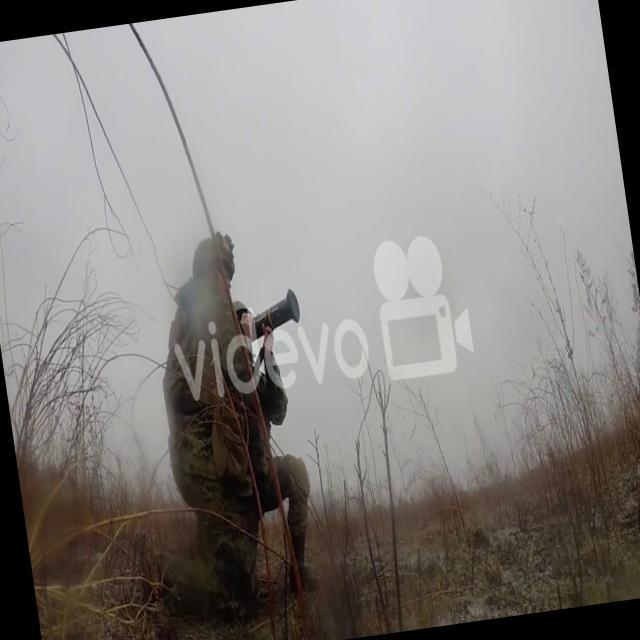rocket: (240, 290, 304, 348)
